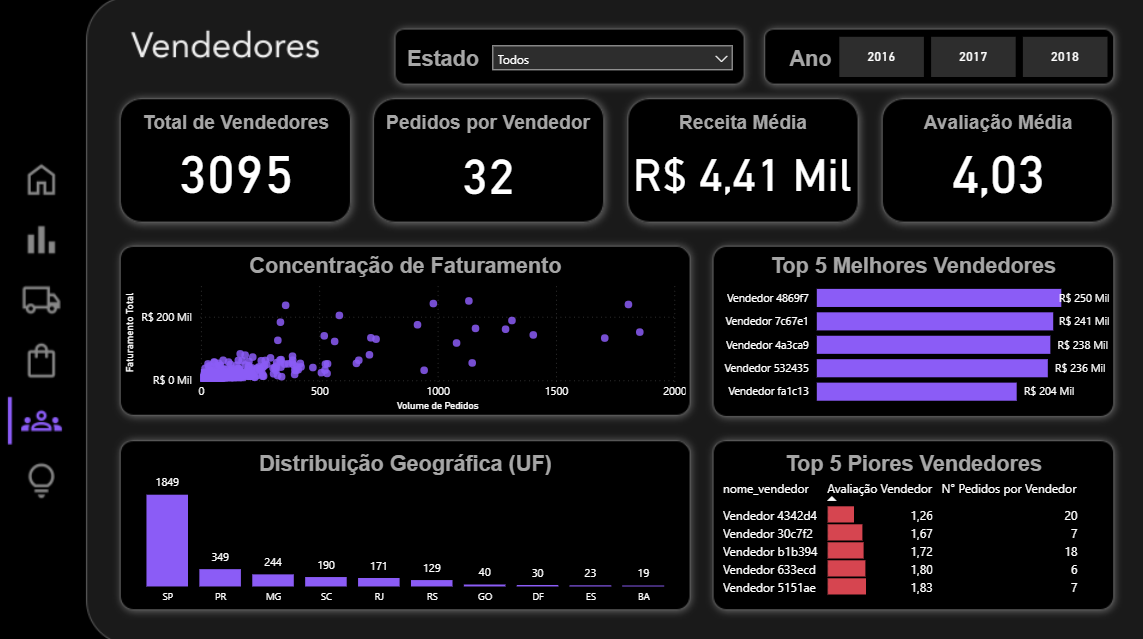

The page's visual inventory and layout, read from the dashboard file:
{"tool":"powerbi","page":{"name":"Vendedores","canvas":[1280,720],"ordinal":4},"visuals":[{"type":"card","fields":{"Values":["Tabela de Medidas.Avaliação Média"]},"box":[976.7,125,273.3,125],"z":0},{"type":"card","fields":{"Values":["Tabela de Medidas.Total Vendedores"]},"box":[130.4,125.7,273.6,124.1],"z":1000},{"type":"card","fields":{"Values":["Tabela de Medidas.Pedidos por Vendedor"]},"box":[410.3,128.1,273.3,125],"z":2000},{"type":"textbox","box":[123.3,120,286.7,38.3],"z":3000},{"type":"textbox","box":[969.4,120.7,286.7,38.3],"z":4000},{"type":"textbox","box":[403.3,120,286.7,38.3],"z":5000},{"type":"textbox","box":[687,120.7,286.7,38.3],"z":6000},{"type":"card","fields":{"Values":["Tabela de Medidas.Receita Media Vendedor"]},"box":[693.7,126.5,271.7,125],"z":7000},{"type":"textbox","box":[833.3,46.7,143.3,46.7],"z":8000},{"type":"slicer","fields":{"Values":["olist vw_pedidos_detalhe.estado_vendedor"]},"box":[541.8,41.1,286.7,55],"z":9000},{"type":"textbox","box":[425.1,46.1,143.3,46.7],"z":10000},{"type":"scatterChart","fields":{"Category":["olist vw_pedidos_detalhe.nome_vendedor"],"X":["olist vw_pedidos_detalhe.order_id"],"Y":["Tabela de Medidas.Faturamento Total"]},"box":[138.4,303.8,633.1,159.1],"z":11000},{"type":"clusteredColumnChart","fields":{"Category":["olist vw_pedidos_detalhe.estado_vendedor"],"Y":["Tabela de Medidas.Total Vendedores"]},"box":[138.4,515.4,633.1,165.4],"z":12000},{"type":"clusteredBarChart","fields":{"Category":["olist vw_pedidos_detalhe.nome_vendedor"],"Y":["Tabela de Medidas.Faturamento Total"]},"box":[796.9,299,445.4,163.8],"z":13000},{"type":"tableEx","fields":{"Values":["olist vw_pedidos_detalhe.nome_vendedor","Tabela de Medidas.Avaliacao Piores Vendedores","Tabela de Medidas.Pedidos por Vendedor"]},"box":[796.7,528.3,445,166.7],"z":14000},{"type":"textbox","box":[138.4,276.8,633.1,38.2],"z":15000},{"type":"textbox","box":[138.4,496.3,633.1,38.2],"z":16000},{"type":"textbox","box":[796.9,276.8,445.4,38.2],"z":17000},{"type":"textbox","box":[797.5,497,446,37.8],"z":18000},{"type":"advancedSlicerVisual","fields":{"Values":["dCalendario.Ano"]},"box":[931.7,36.7,308.3,55],"z":19000},{"type":"actionButton","box":[15,178.8,70,48.8],"z":20000},{"type":"actionButton","box":[15,240,70,51.2],"z":21000},{"type":"actionButton","box":[15,307.5,70,48.8],"z":22000},{"type":"actionButton","box":[15,378.8,70,48.8],"z":23000},{"type":"actionButton","box":[15,447.5,70,48.8],"z":24000},{"type":"actionButton","box":[15,512.5,70,48.8],"z":25000}]}

Visuals, with their boxes on the page's 1280x720 design canvas (x1, y1, x2, y2). These are canvas units, not pixel positions in the 1143x639 screenshot, which may show the page scaled, cropped or inside an application window:
card - Tabela de Medidas.Avaliação Média: 977,125,1250,250
card - Tabela de Medidas.Total Vendedores: 130,126,404,250
card - Tabela de Medidas.Pedidos por Vendedor: 410,128,684,253
textbox: 123,120,410,158
textbox: 969,121,1256,159
textbox: 403,120,690,158
textbox: 687,121,974,159
card - Tabela de Medidas.Receita Media Vendedor: 694,126,965,252
textbox: 833,47,977,93
slicer - olist vw_pedidos_detalhe.estado_vendedor: 542,41,828,96
textbox: 425,46,568,93
scatterChart - olist vw_pedidos_detalhe.nome_vendedor x olist vw_pedidos_detalhe.order_id: 138,304,772,463
clusteredColumnChart - olist vw_pedidos_detalhe.estado_vendedor x Tabela de Medidas.Total Vendedores: 138,515,772,681
clusteredBarChart - olist vw_pedidos_detalhe.nome_vendedor x Tabela de Medidas.Faturamento Total: 797,299,1242,463
tableEx - olist vw_pedidos_detalhe.nome_vendedor x Tabela de Medidas.Avaliacao Piores Vendedores: 797,528,1242,695
textbox: 138,277,772,315
textbox: 138,496,772,534
textbox: 797,277,1242,315
textbox: 798,497,1244,535
advancedSlicerVisual - dCalendario.Ano: 932,37,1240,92
actionButton: 15,179,85,228
actionButton: 15,240,85,291
actionButton: 15,308,85,356
actionButton: 15,379,85,428
actionButton: 15,448,85,496
actionButton: 15,512,85,561
